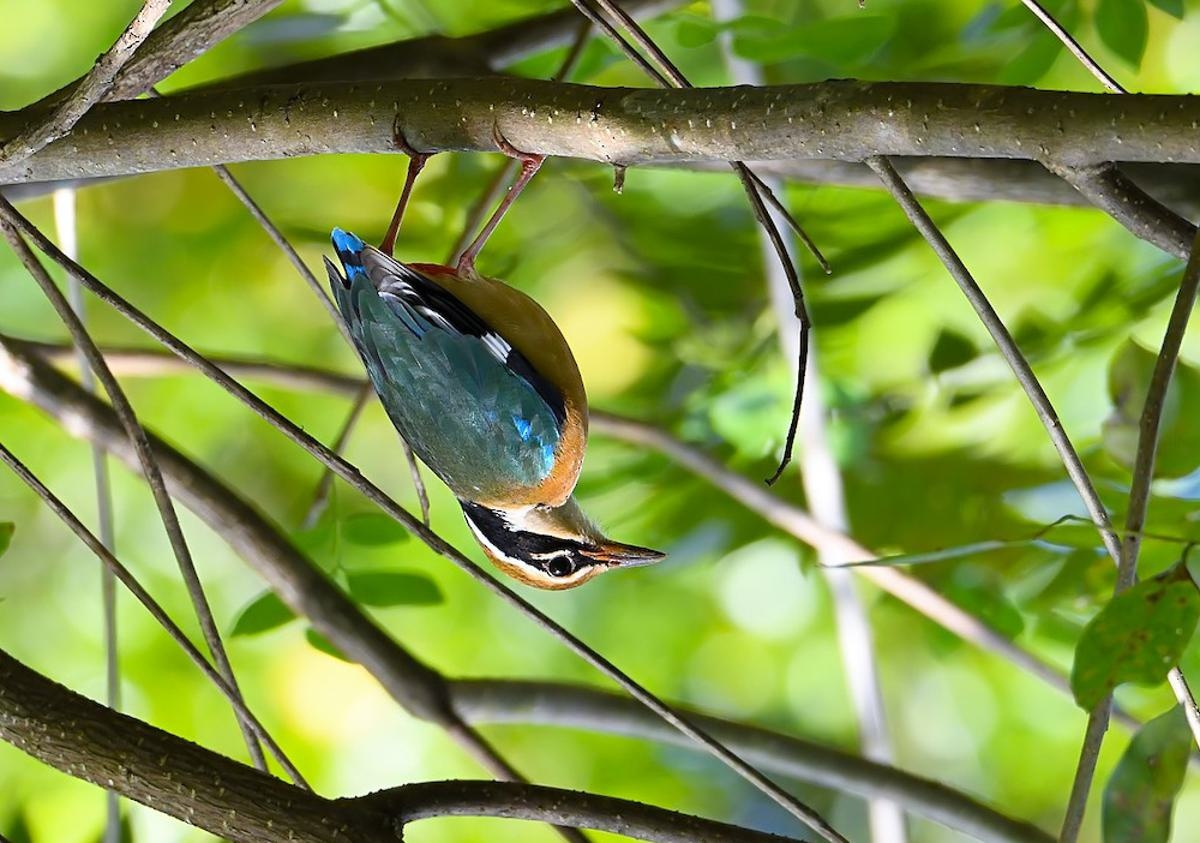pitta: (311, 144, 675, 596)
